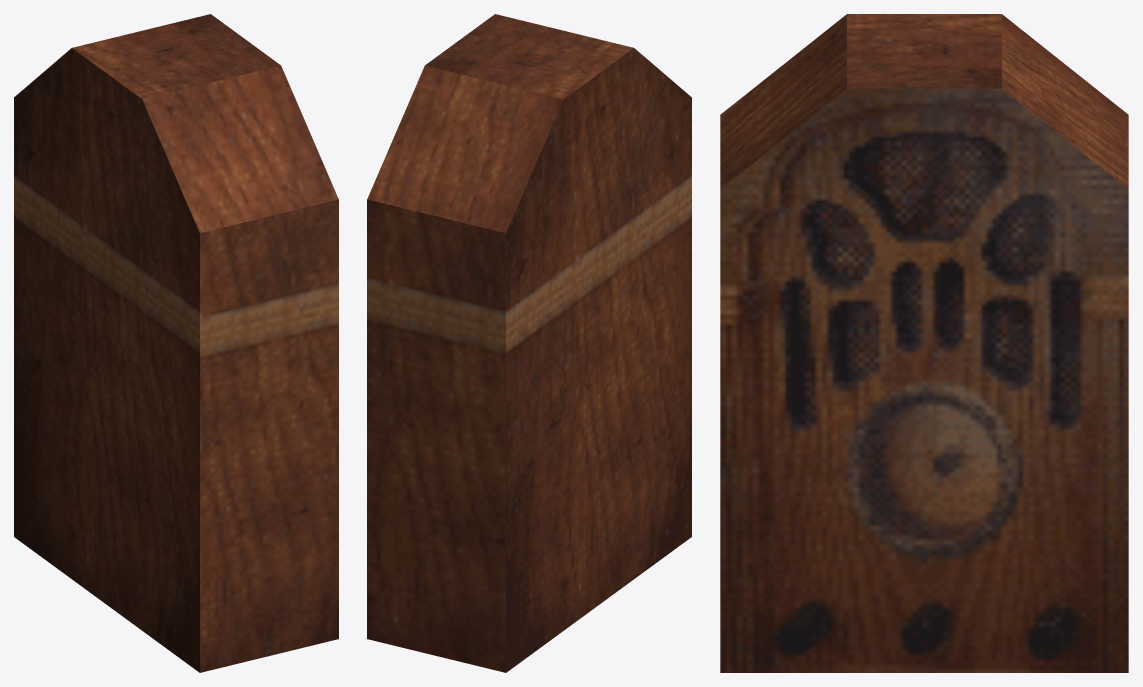
Rendered from ps1_antique_radio.fbx.
The picture shows the model from 3 angles, left to right: view 1: azimuth 30°, elevation 25°; view 2: azimuth 150°, elevation 25°; view 3: azimuth 270°, elevation 25°; orthographic projection. The views are drawn at different scales.
Parts seen in each view (by area): view 1: Cube; view 2: Cube; view 3: Cube.
Part boxes in pixels (box(x1,y1,x2,y2)): Cube: box(14, 14, 338, 672); Cube: box(367, 14, 691, 672); Cube: box(720, 14, 1128, 672).
Bounding box in the file's own units: 64.45 × 236 × 149.
